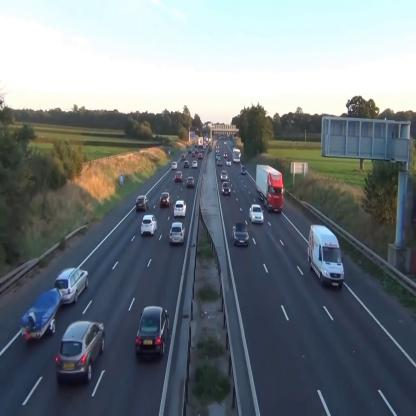car: (56, 321, 106, 384), (136, 304, 169, 359), (54, 268, 90, 306), (140, 214, 158, 237), (232, 223, 249, 246), (169, 222, 186, 244), (249, 204, 264, 226), (136, 196, 149, 212), (174, 201, 186, 217), (160, 192, 171, 207), (221, 182, 231, 195), (174, 172, 182, 182), (186, 177, 194, 187), (220, 170, 228, 180), (172, 161, 178, 170), (192, 160, 198, 168), (240, 166, 246, 174), (184, 160, 189, 168)
lorry: (308, 223, 344, 289), (256, 163, 284, 212), (233, 148, 241, 164)
